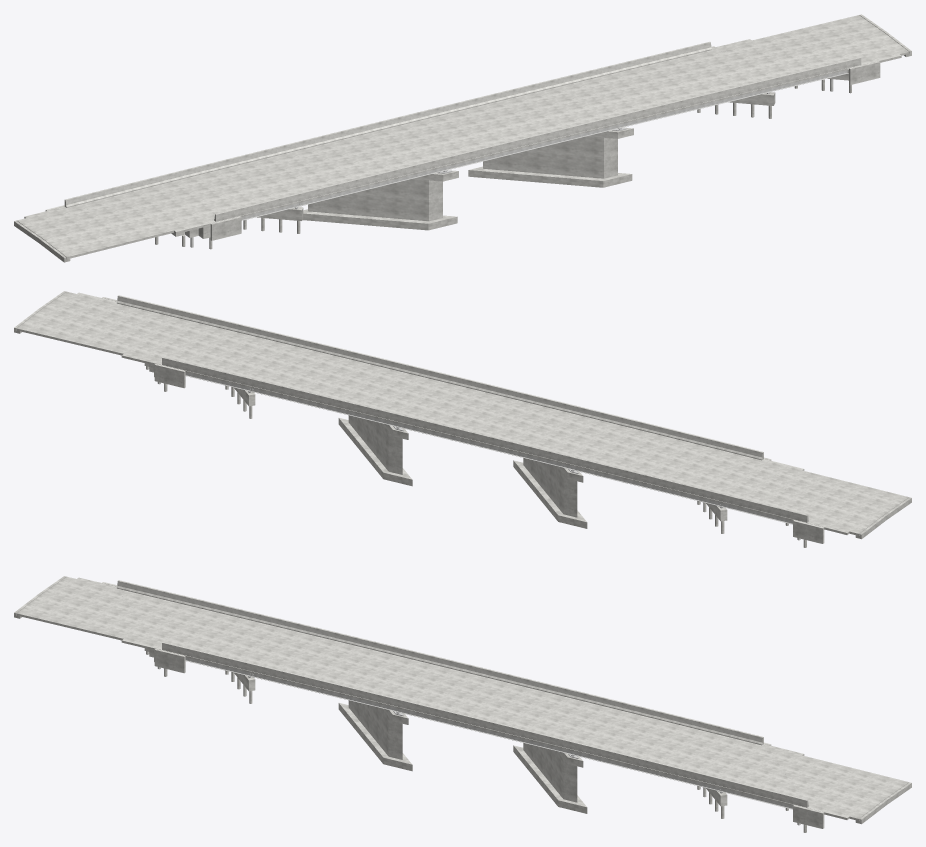
Rendered from model_render.glb.
3 views of the same model, one above another, from view 1: azimuth 30°, elevation 25°; view 2: azimuth 150°, elevation 25°; view 3: azimuth 330°, elevation 25° (orthographic).
Visible parts, largest first — view 1: deck, approach_-1, approach_1, wall_3, wall_2, footing_3, footing_2, rail_1_4, rail_1_2, rail_1_3, rail_1_1, rail_1_0 (+10 smaller); view 2: deck, approach_1, approach_-1, wall_2, wall_3, rail_-1_0, rail_-1_2, rail_-1_3, rail_-1_1, rail_-1_4, rail_1_4, rail_1_2 (+10 smaller); view 3: deck, approach_-1, approach_1, wall_3, wall_2, rail_1_4, rail_1_1, rail_1_2, rail_1_3, rail_1_0, rail_-1_0, rail_-1_2 (+10 smaller).
Boxes of the visible parts, left/top/right/bottom form: deck: left=67, top=50, right=860, bottom=221; approach_-1: left=16, top=206, right=215, bottom=259; approach_1: left=711, top=15, right=909, bottom=64; wall_3: left=483, top=136, right=617, bottom=178; wall_2: left=308, top=179, right=442, bottom=221; footing_3: left=468, top=166, right=632, bottom=187; footing_2: left=303, top=209, right=457, bottom=230; rail_1_4: left=576, top=41, right=711, bottom=81; rail_1_2: left=318, top=105, right=452, bottom=144; rail_1_3: left=447, top=74, right=581, bottom=112; rail_1_1: left=189, top=137, right=323, bottom=175; rail_1_0: left=64, top=168, right=194, bottom=207; deck: left=116, top=303, right=809, bottom=522; approach_1: left=16, top=291, right=161, bottom=365; approach_-1: left=762, top=459, right=908, bottom=535; wall_2: left=523, top=458, right=577, bottom=517; wall_3: left=348, top=415, right=402, bottom=474; rail_-1_0: left=630, top=419, right=763, bottom=460; rail_-1_2: left=372, top=356, right=502, bottom=396; rail_-1_3: left=243, top=325, right=373, bottom=364; rail_-1_1: left=501, top=387, right=631, bottom=427; rail_-1_4: left=117, top=295, right=244, bottom=333; rail_1_4: left=162, top=357, right=296, bottom=396; rail_1_2: left=424, top=420, right=554, bottom=459; deck: left=116, top=588, right=809, bottom=807; approach_-1: left=16, top=576, right=161, bottom=650; approach_1: left=762, top=744, right=908, bottom=820; wall_3: left=523, top=743, right=577, bottom=802; wall_2: left=348, top=700, right=402, bottom=759; rail_1_4: left=630, top=704, right=763, bottom=745; rail_1_1: left=243, top=610, right=373, bottom=649; rail_1_2: left=372, top=641, right=502, bottom=681; rail_1_3: left=501, top=672, right=631, bottom=712; rail_1_0: left=117, top=580, right=244, bottom=618; rail_-1_0: left=162, top=642, right=296, bottom=681; rail_-1_2: left=424, top=705, right=554, bottom=744.
Size of the model in its own units: 106 by 8.69 by 12.47.
Materials: 4 (3 with a texture image).
